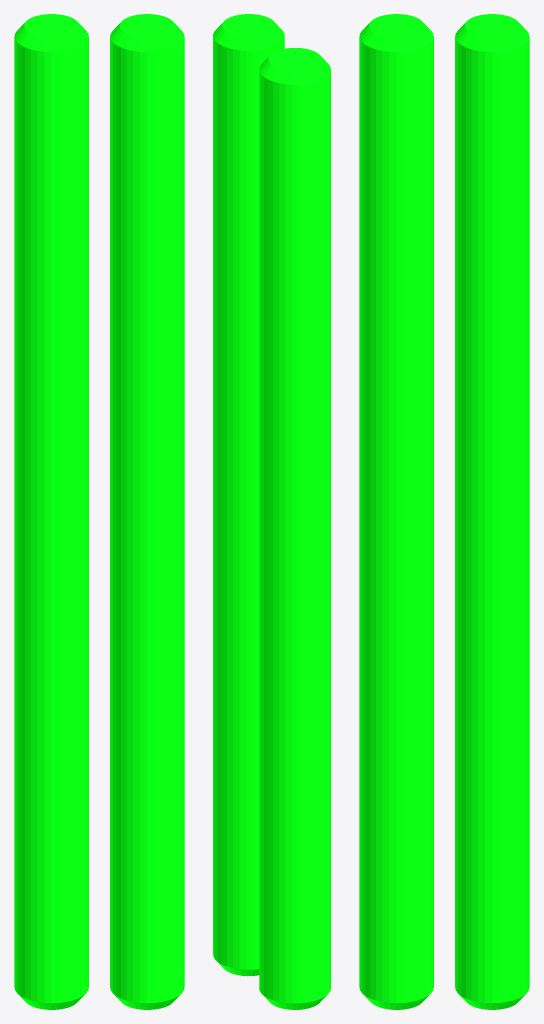
Rendered from UraniumFuelRodsDisplay.fbx.
The picture shows the model from 3 angles, left to right: view 1: azimuth 90°, elevation 25°; view 2: azimuth 210°, elevation 25°; view 3: azimuth 270°, elevation 25°; orthographic projection. The views are drawn at different scales.
Parts seen in each view (by area): view 1: Cylinder.001; view 2: Cylinder.001; view 3: Cylinder.001.
Part boxes in pixels (box(x1,y1,x2,y2)): Cylinder.001: box(14, 14, 184, 1009); Cylinder.001: box(213, 14, 330, 1009); Cylinder.001: box(359, 14, 529, 1009).
Size of the model in its own units: 93.33 by 1347 by 213.
